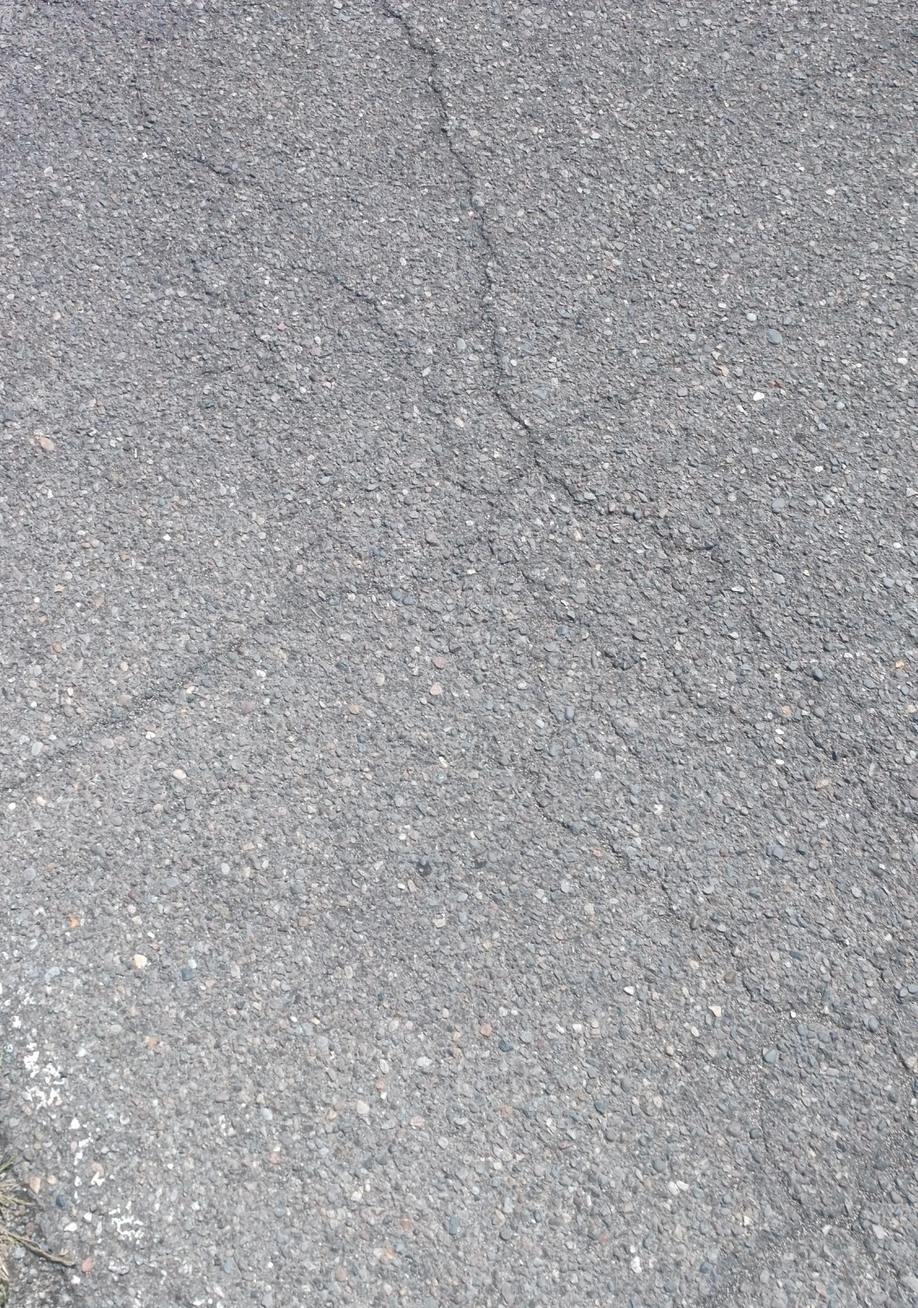GRIETA: (0, 617, 280, 802)
PIEL DE COCODRILO: (72, 3, 918, 1308)
